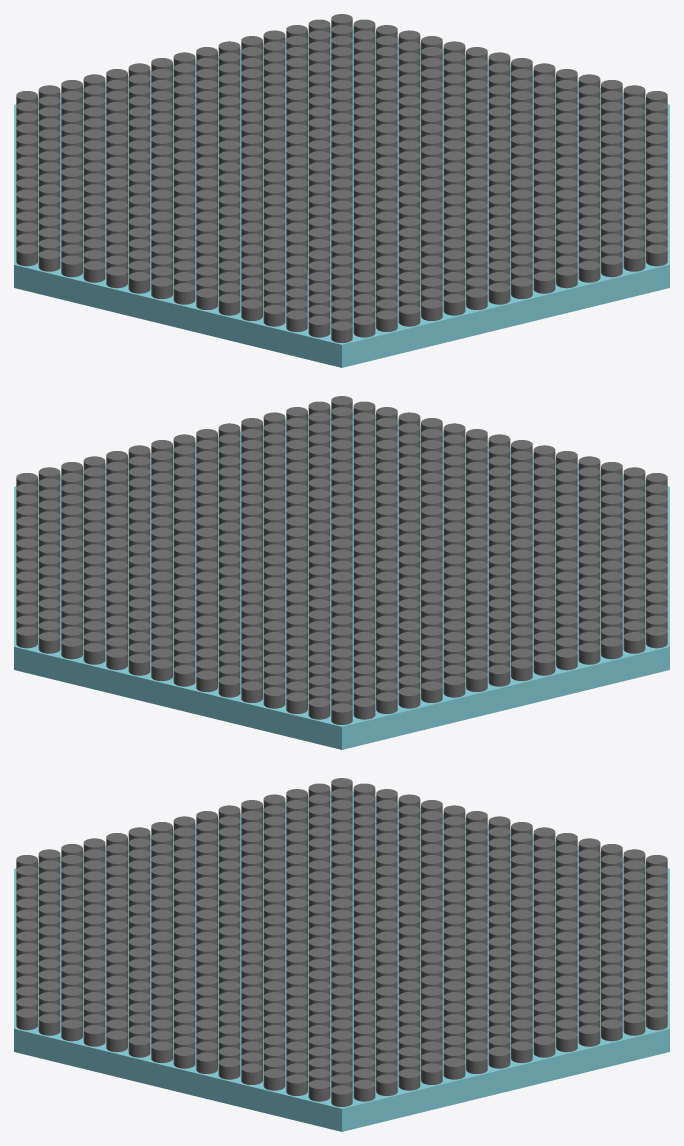
Rendered from single_hex_model_2.fbx.
The picture shows the model from 3 angles, top to bottom: view 1: azimuth 30°, elevation 25°; view 2: azimuth 150°, elevation 25°; view 3: azimuth 270°, elevation 25°; orthographic projection.
Parts seen in each view (by area): view 1: BottomHex; view 2: BottomHex; view 3: BottomHex.
Boxes of the visible parts, <box> form: BottomHex: <box>14,27,669,367</box>; BottomHex: <box>14,409,669,749</box>; BottomHex: <box>14,791,669,1131</box>.
Bounding box in the file's own units: 35 × 1.82 × 30.31.
